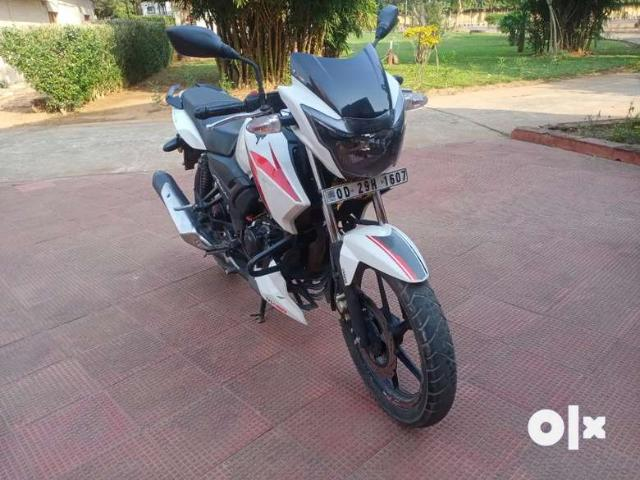Indian_Number_Plate: (324, 168, 408, 204)
